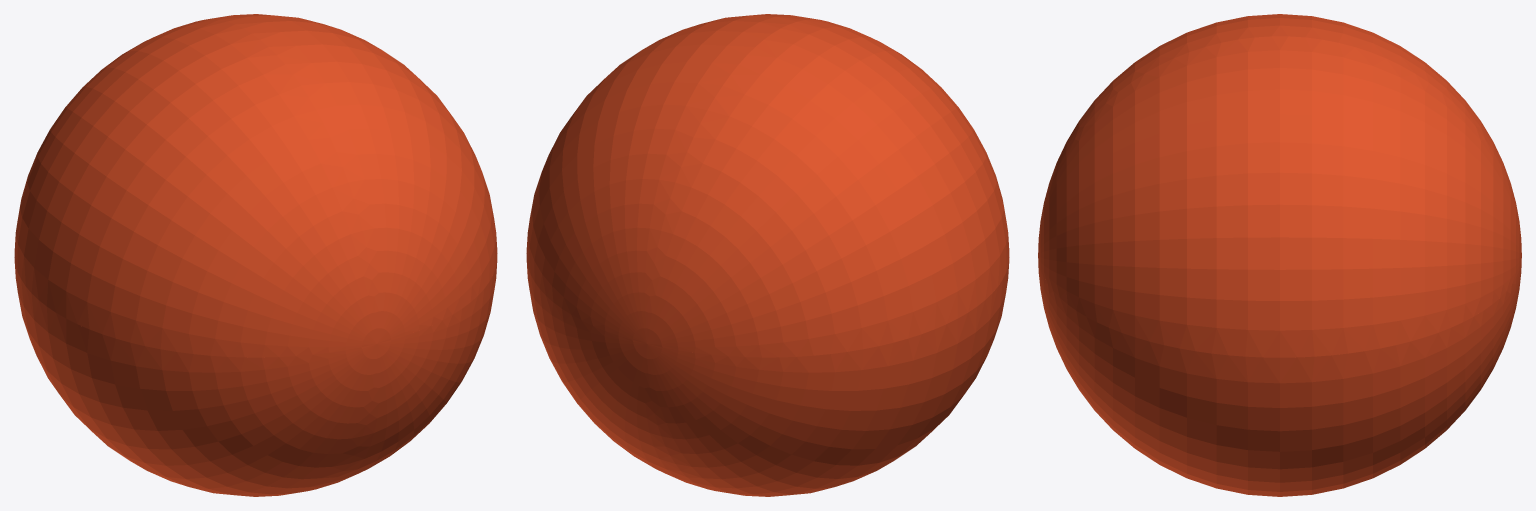
Rendered from ball.dae.
3 views of the same model, side by side, from view 1: azimuth 30°, elevation 25°; view 2: azimuth 150°, elevation 25°; view 3: azimuth 270°, elevation 25° (orthographic).
Visible parts, largest first — view 1: Demi bille 19mm (×2); view 2: Demi bille 19mm (×2); view 3: Demi bille 19mm (×2).
Boxes of the visible parts, left/top/right/bottom form: Demi bille 19mm (×2): left=14, top=14, right=497, bottom=496; Demi bille 19mm (×2): left=526, top=14, right=1009, bottom=496; Demi bille 19mm (×2): left=1038, top=14, right=1521, bottom=496.
Bounding box in the file's own units: 0.019 × 0.019 × 0.019.
